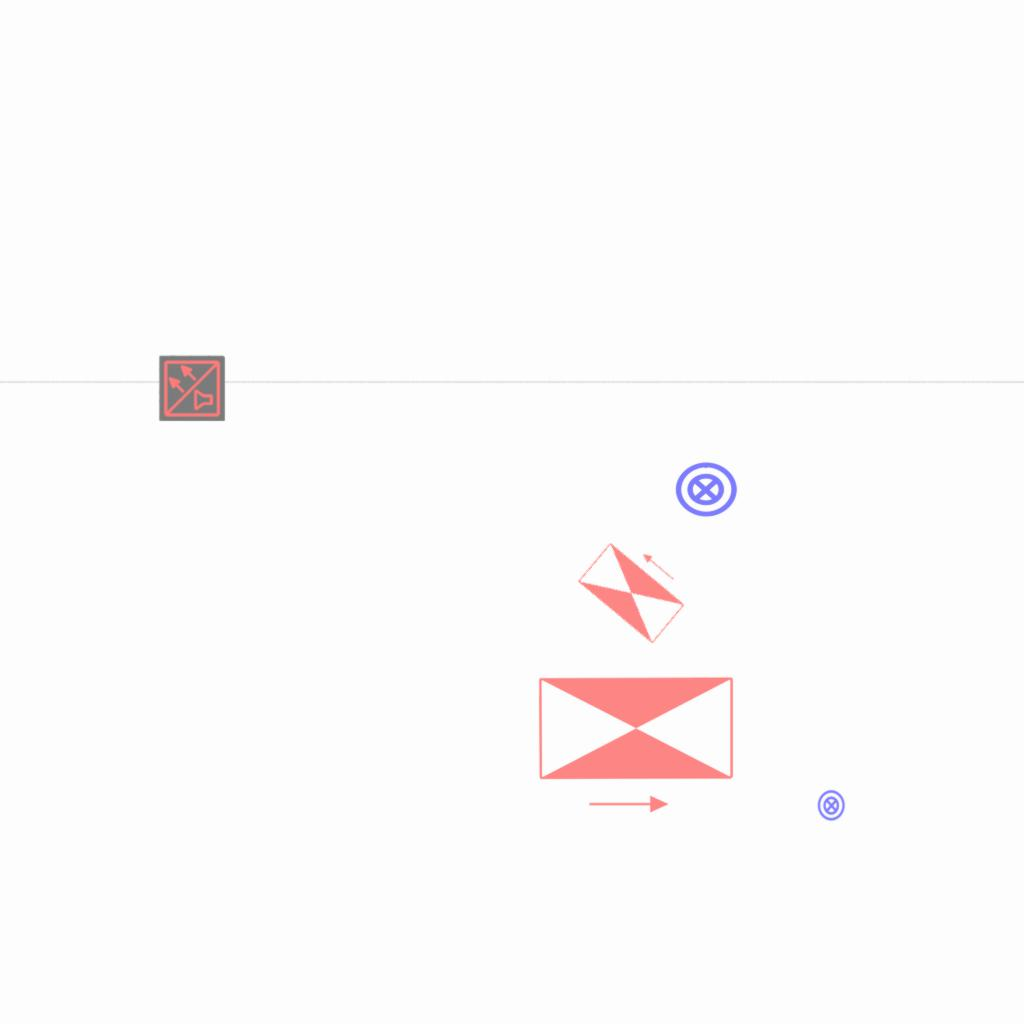Fluchtwegpiktogramm: (532, 671, 740, 818), (573, 525, 700, 649)
OKW_Multisensormelder_(Kombination_optischer_Rauch-Kahlenmonoxid_Waerme-Melder): (159, 355, 225, 421)
Taster_beleuchtet: (673, 457, 739, 523), (815, 789, 848, 822)
